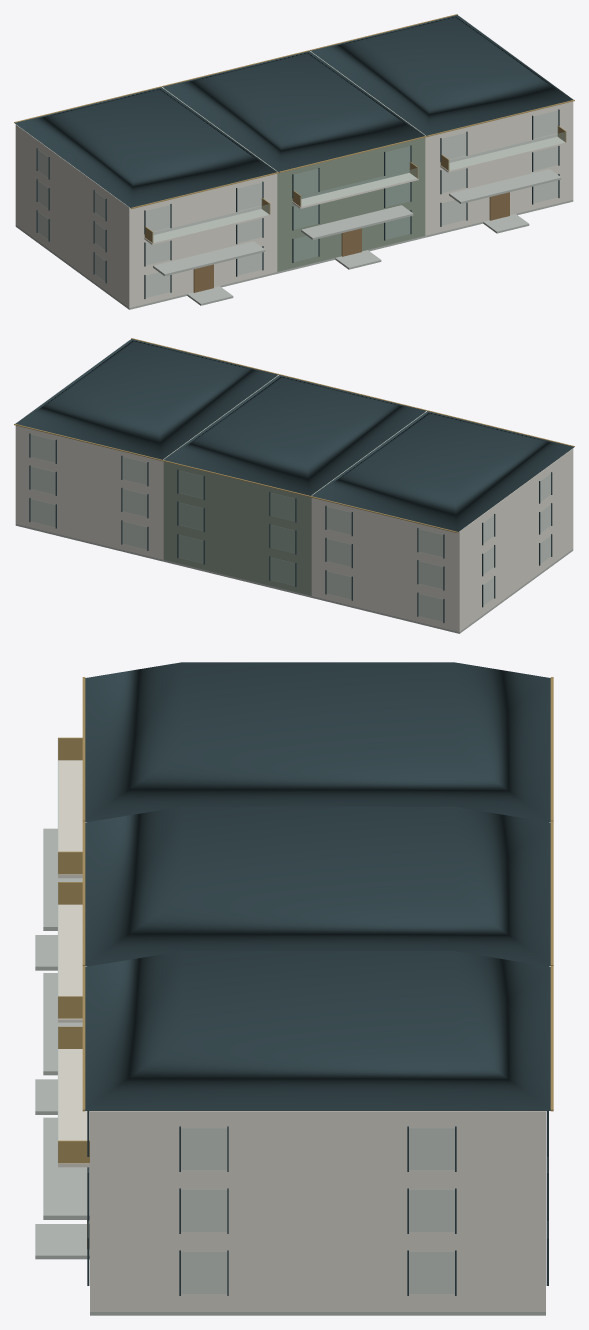
The model's file is townhouse.glb.
3 renders of one model, top to bottom at view 1: azimuth 30°, elevation 25°; view 2: azimuth 150°, elevation 25°; view 3: azimuth 270°, elevation 25°, orthographic. The views are drawn at different scales.
Visible parts, largest first — view 1: GC-NK-TOWNHOUSE-dark, GC-NK-TOWNHOUSE-white, GC-NK-TOWNHOUSE-glass, GC-NK-TOWNHOUSE-sage, GC-NK-TOWNHOUSE-stone, GC-NK-TOWNHOUSE-gold, GC-NK-TOWNHOUSE-wood; view 2: GC-NK-TOWNHOUSE-dark, GC-NK-TOWNHOUSE-white, GC-NK-TOWNHOUSE-sage, GC-NK-TOWNHOUSE-glass, GC-NK-TOWNHOUSE-gold, GC-NK-TOWNHOUSE-stone; view 3: GC-NK-TOWNHOUSE-dark, GC-NK-TOWNHOUSE-white, GC-NK-TOWNHOUSE-glass, GC-NK-TOWNHOUSE-stone, GC-NK-TOWNHOUSE-gold.
Boxes of the visible parts, bbox=[...] form: GC-NK-TOWNHOUSE-dark: bbox=[15, 15, 573, 298]; GC-NK-TOWNHOUSE-white: bbox=[15, 16, 573, 307]; GC-NK-TOWNHOUSE-glass: bbox=[37, 110, 566, 297]; GC-NK-TOWNHOUSE-sage: bbox=[164, 52, 425, 271]; GC-NK-TOWNHOUSE-stone: bbox=[15, 169, 573, 309]; GC-NK-TOWNHOUSE-gold: bbox=[14, 14, 574, 243]; GC-NK-TOWNHOUSE-wood: bbox=[193, 192, 509, 292]; GC-NK-TOWNHOUSE-dark: bbox=[15, 339, 573, 622]; GC-NK-TOWNHOUSE-white: bbox=[15, 340, 573, 631]; GC-NK-TOWNHOUSE-sage: bbox=[163, 376, 424, 595]; GC-NK-TOWNHOUSE-glass: bbox=[30, 434, 551, 621]; GC-NK-TOWNHOUSE-gold: bbox=[14, 338, 574, 532]; GC-NK-TOWNHOUSE-stone: bbox=[15, 524, 573, 633]; GC-NK-TOWNHOUSE-dark: bbox=[85, 662, 550, 1295]; GC-NK-TOWNHOUSE-white: bbox=[58, 760, 545, 1311]; GC-NK-TOWNHOUSE-glass: bbox=[58, 760, 454, 1293]; GC-NK-TOWNHOUSE-stone: bbox=[35, 828, 545, 1315]; GC-NK-TOWNHOUSE-gold: bbox=[58, 677, 553, 1163].
Size of the model in its own units: 45.24 by 12 by 22.73.
